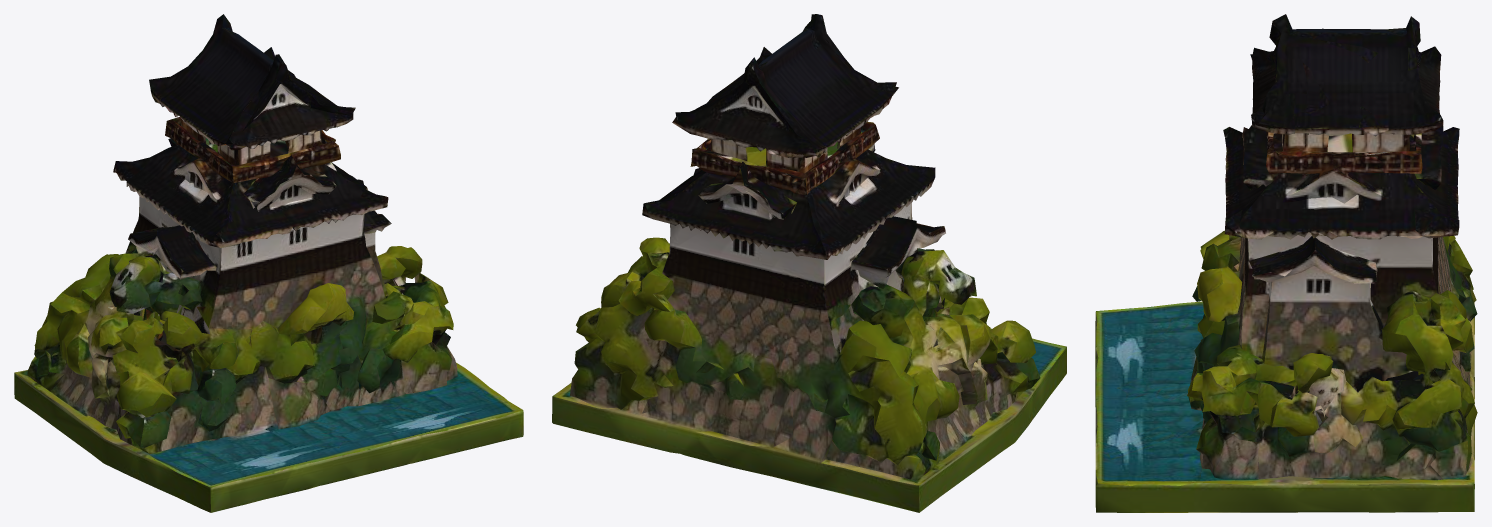
File: inuyama-castle.glb
3 renders of one model, left to right at view 1: azimuth 30°, elevation 25°; view 2: azimuth 150°, elevation 25°; view 3: azimuth 270°, elevation 25°, orthographic. The views are drawn at different scales.
Visible parts, largest first — view 1: logan-textured.obj; view 2: logan-textured.obj; view 3: logan-textured.obj.
Part boxes in pixels (x1,y1,x2,y2): logan-textured.obj: (14,14,523,512); logan-textured.obj: (552,14,1066,512); logan-textured.obj: (1095,14,1477,512).
Bounding box in the file's own units: 1 × 0.9991 × 0.8468.
1 material, 1 textured.
